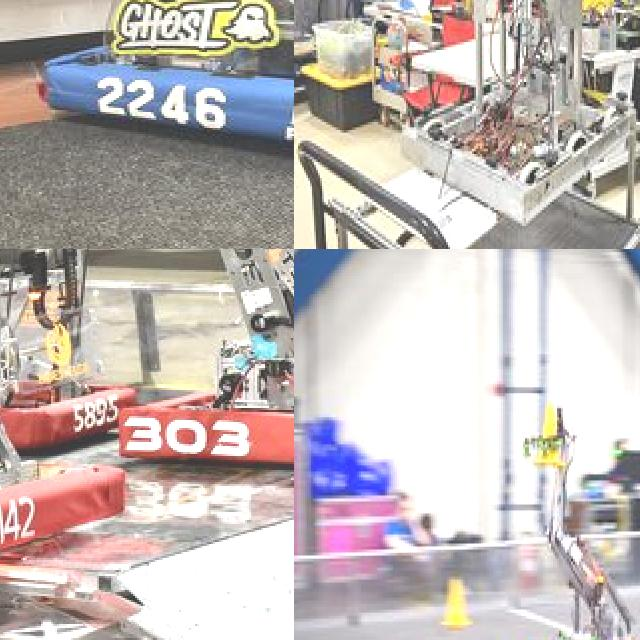FRC-Robots: (294, 0, 640, 249), (0, 249, 294, 491), (1, 0, 294, 158), (503, 355, 640, 640), (0, 249, 155, 444), (0, 445, 131, 563)
